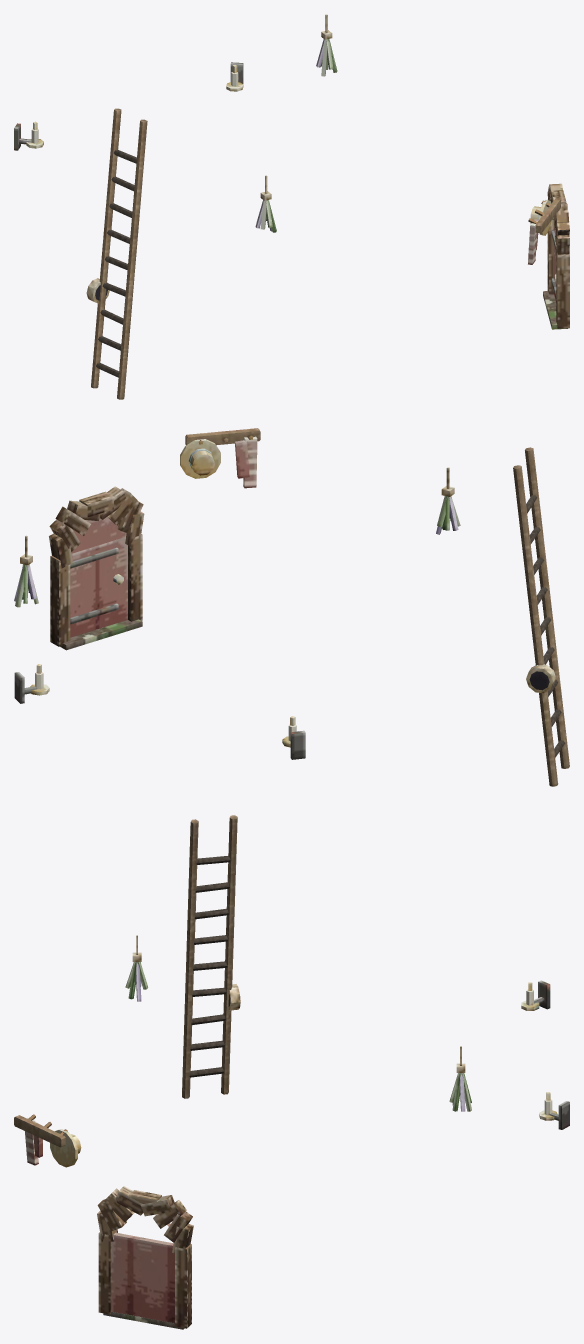
The model's file is room_f1.glb.
The picture shows the model from 3 angles, top to bottom: view 1: azimuth 30°, elevation 25°; view 2: azimuth 150°, elevation 25°; view 3: azimuth 270°, elevation 25°; orthographic projection. The views are drawn at different scales.
Parts seen in each view (by area): view 1: tile_wood, solid; view 2: tile_wood, solid, tile_stone; view 3: tile_wood, solid.
Boxes of the visible parts, left/top/right/bottom form: tile_wood: left=91, top=108, right=569, bottom=399; solid: left=14, top=14, right=556, bottom=303; tile_wood: left=49, top=428, right=569, bottom=786; solid: left=14, top=436, right=555, bottom=759; tile_stone: left=60, top=619, right=142, bottom=650; tile_wood: left=14, top=815, right=237, bottom=1328; solid: left=25, top=935, right=569, bottom=1323.
Size of the model in its own units: 129 by 73.69 by 127.
Materials: 2 (2 with a texture image).
